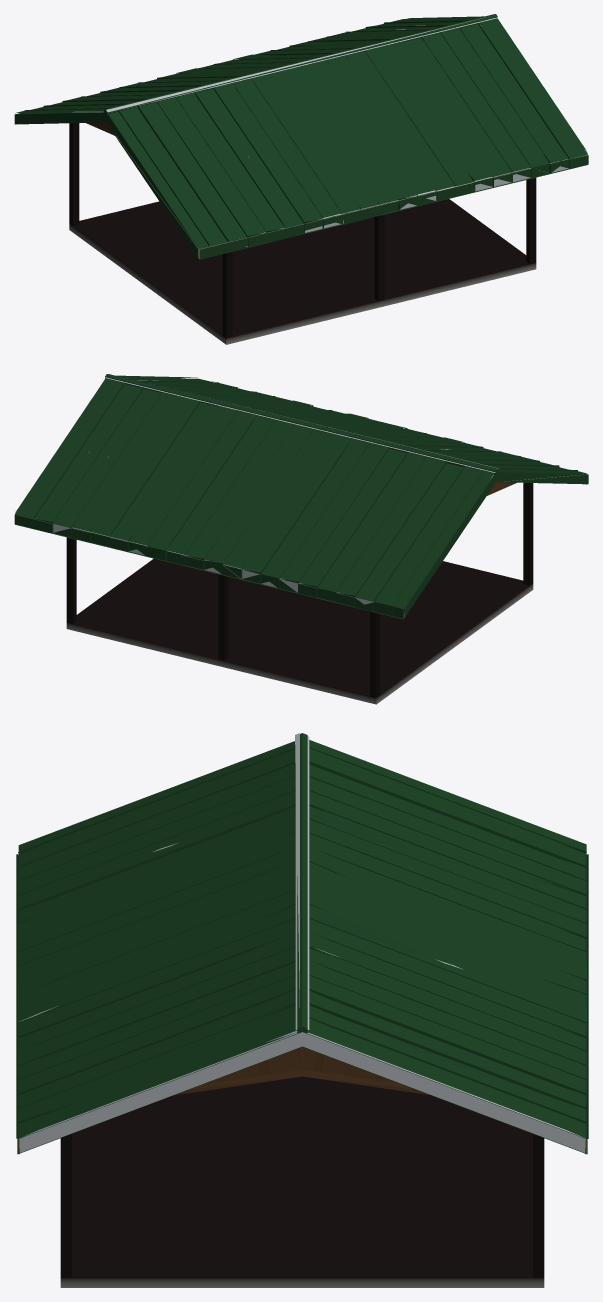
Rendered from rest-shelter.zfix-v14.lod0.glb.
The picture shows the model from 3 angles, top to bottom: view 1: azimuth 30°, elevation 25°; view 2: azimuth 150°, elevation 25°; view 3: azimuth 270°, elevation 25°; orthographic projection. The views are drawn at different scales.
Visible parts, largest first — view 1: Material2; view 2: Material2; view 3: Material2.
Part boxes in pixels (bbox=[...]): Material2: bbox=[14, 14, 588, 344]; Material2: bbox=[14, 374, 588, 704]; Material2: bbox=[16, 733, 588, 1287].
Bounding box in the file's own units: 10.37 × 4.77 × 8.56.
